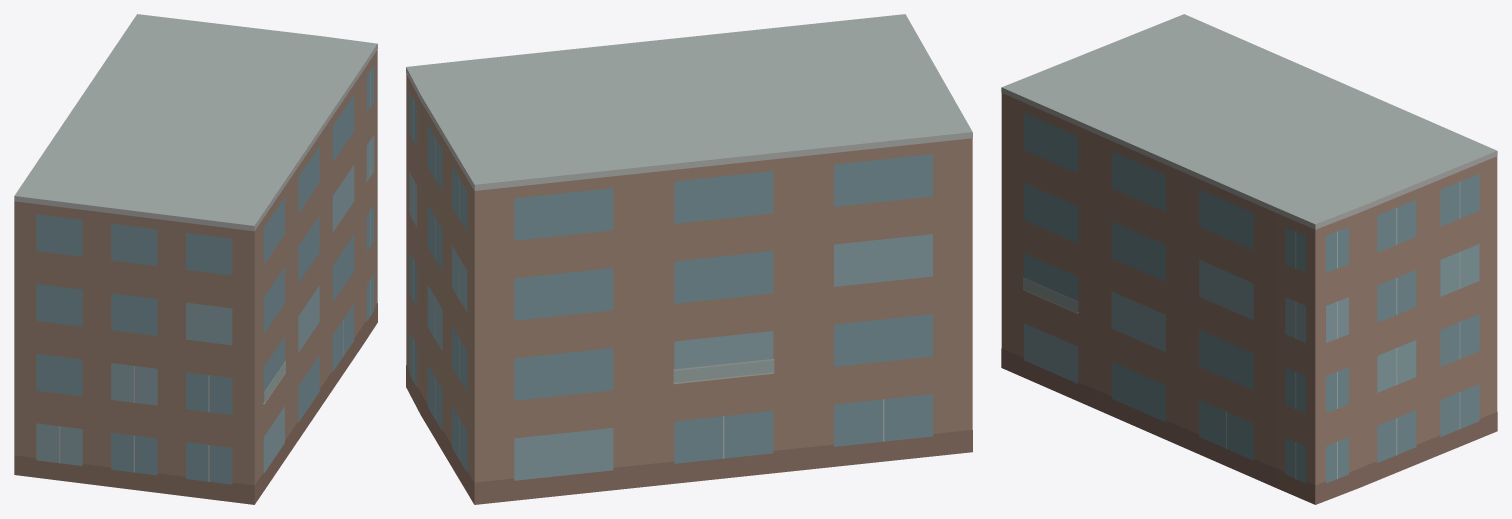
The model's file is survey-upis-32987809.glb.
The picture shows the model from 3 angles, left to right: view 1: azimuth 30°, elevation 25°; view 2: azimuth 150°, elevation 25°; view 3: azimuth 270°, elevation 25°; orthographic projection. The views are drawn at different scales.
Visible parts, largest first — view 1: survey-upis-32987809.tmp; view 2: survey-upis-32987809.tmp; view 3: survey-upis-32987809.tmp.
Boxes of the visible parts, x1,y1,x2,y2 form: survey-upis-32987809.tmp: (14, 14, 377, 504); survey-upis-32987809.tmp: (406, 14, 972, 504); survey-upis-32987809.tmp: (1001, 14, 1497, 504).
Bounding box in the file's own units: 20.6 × 12.8 × 20.52.
